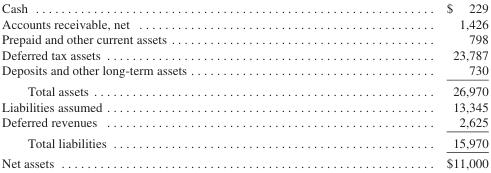table: (1, 0, 487, 170)
table column: (1, 0, 315, 170), (315, 0, 487, 170)
table row: (1, 132, 487, 152), (1, 113, 487, 132), (1, 62, 487, 80), (1, 80, 487, 98), (1, 152, 487, 170), (1, 15, 487, 31), (1, 46, 487, 62), (1, 0, 487, 15), (1, 31, 487, 46), (1, 98, 487, 113)
